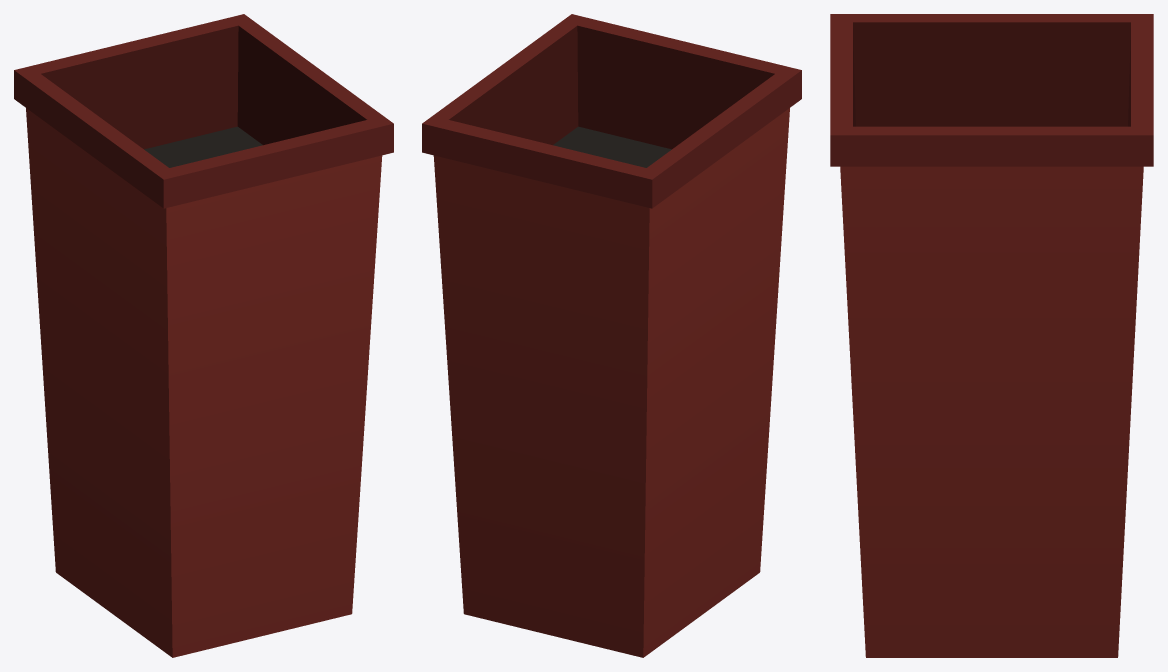
File: bin.waste.red.glb
The picture shows the model from 3 angles, left to right: view 1: azimuth 30°, elevation 25°; view 2: azimuth 150°, elevation 25°; view 3: azimuth 270°, elevation 25°; orthographic projection. The views are drawn at different scales.
Visible parts, largest first — view 1: bin_waste_red; view 2: bin_waste_red; view 3: bin_waste_red.
Boxes of the visible parts, x1,y1,x2,y2 form: bin_waste_red: (14,14,393,657); bin_waste_red: (422,14,801,657); bin_waste_red: (830,14,1153,657).
Size of what is drawn, in the model's own units: 0.291 by 0.6 by 0.328.
